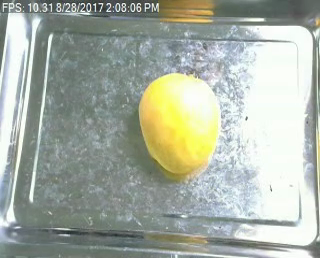Mango: (134, 70, 224, 177)
